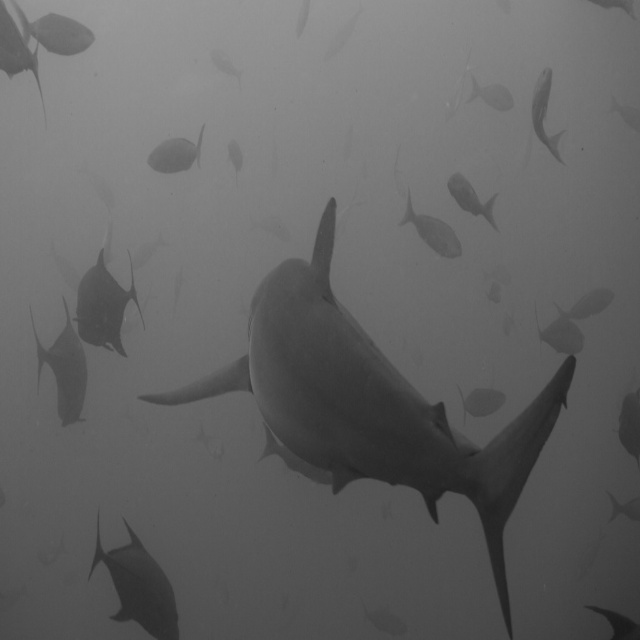Shark: (136, 201, 574, 639)
